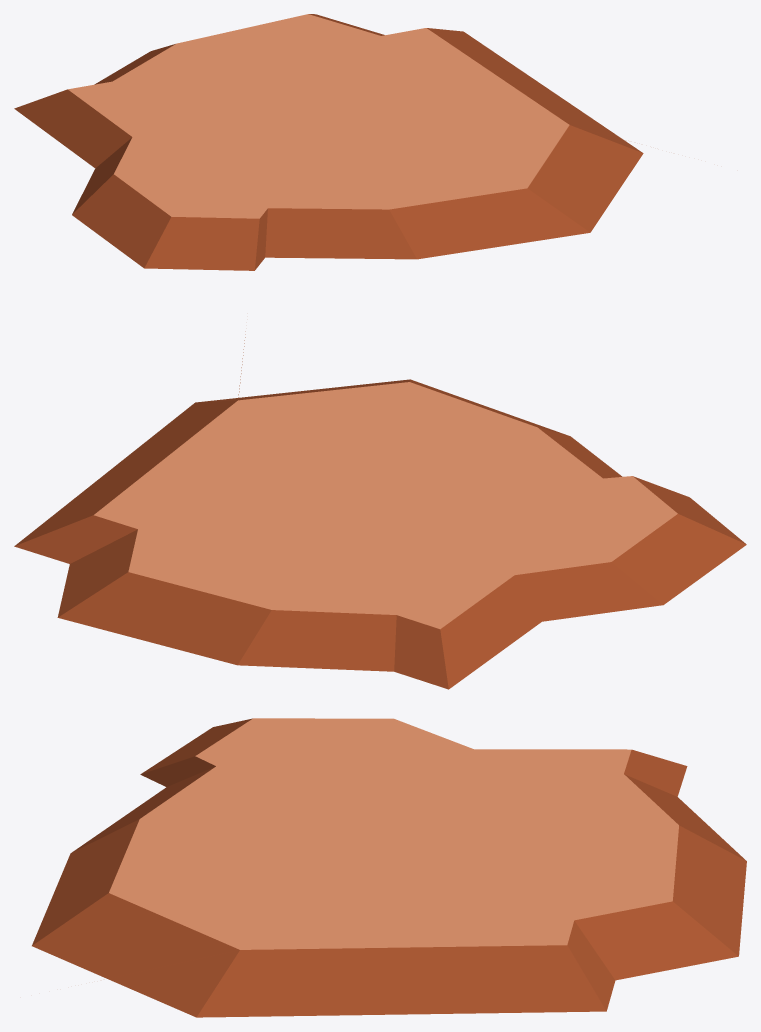
File: Boden_1.fbx
The picture shows the model from 3 angles, top to bottom: view 1: azimuth 30°, elevation 25°; view 2: azimuth 150°, elevation 25°; view 3: azimuth 270°, elevation 25°; orthographic projection. The views are drawn at different scales.
Visible parts, largest first — view 1: Plane.018; view 2: Plane.018; view 3: Plane.018.
Part boxes in pixels (left/top/right/bottom): Plane.018: left=14, top=14, right=643, bottom=270; Plane.018: left=14, top=331, right=746, bottom=689; Plane.018: left=32, top=718, right=746, bottom=1017.
Size of the model in its own units: 2054 by 2074 by 108.
